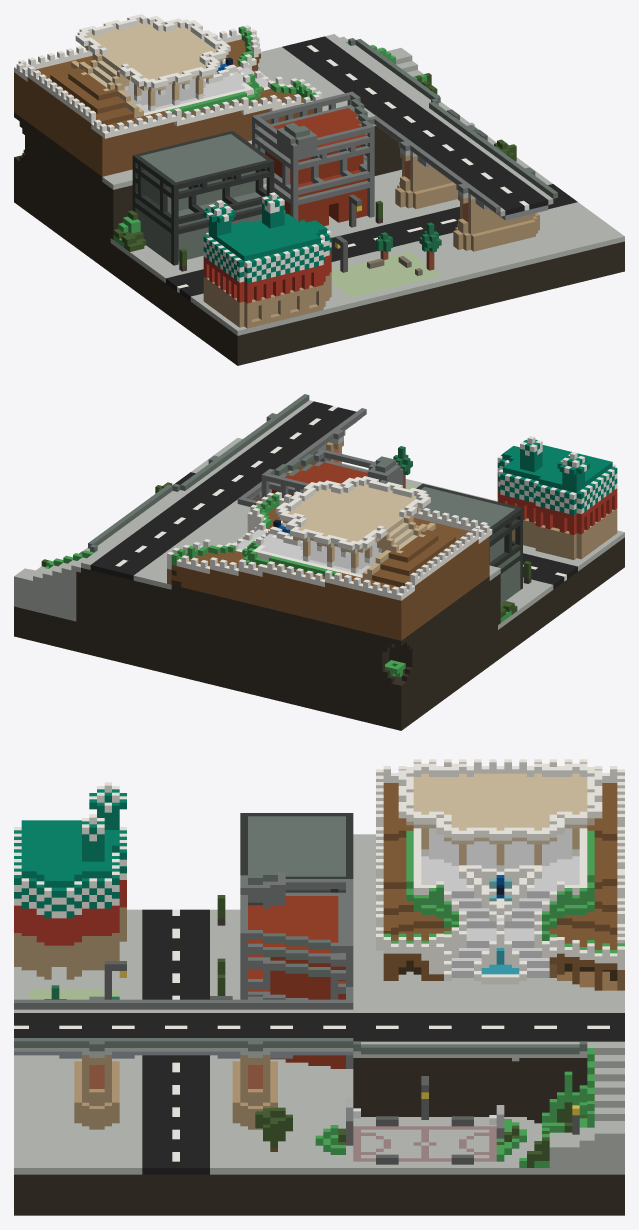
The model's file is nhood_8.glb.
3 renders of one model, top to bottom at view 1: azimuth 30°, elevation 25°; view 2: azimuth 150°, elevation 25°; view 3: azimuth 270°, elevation 25°, orthographic. The views are drawn at different scales.
Parts seen in each view (by area): view 1: Untitled.002; view 2: Untitled.002; view 3: Untitled.002.
Part boxes in pixels (x1,y1,x2,y2): Untitled.002: (14,14,624,365); Untitled.002: (14,394,624,730); Untitled.002: (14,759,624,1215).
Bounding box in the file's own units: 8.1 × 3.3 × 8.1.
1 material, 1 textured.
